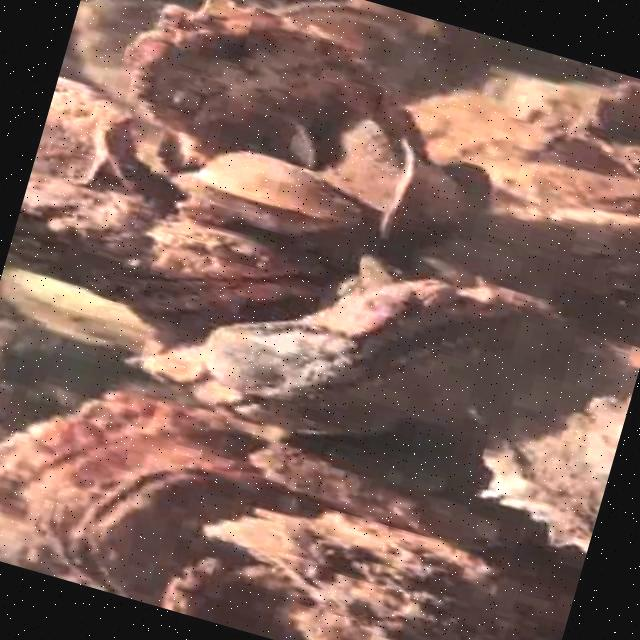Oyster-Closed: (211, 513, 537, 639), (32, 423, 267, 588), (483, 339, 639, 554), (140, 9, 379, 132), (0, 389, 218, 517), (253, 436, 496, 543), (269, 0, 433, 97), (201, 319, 356, 409), (12, 271, 156, 357), (166, 565, 301, 639), (30, 82, 113, 182), (77, 0, 159, 100)
Oyster-Open: (146, 282, 564, 431), (1, 179, 325, 307), (84, 460, 299, 607), (190, 149, 359, 236)
